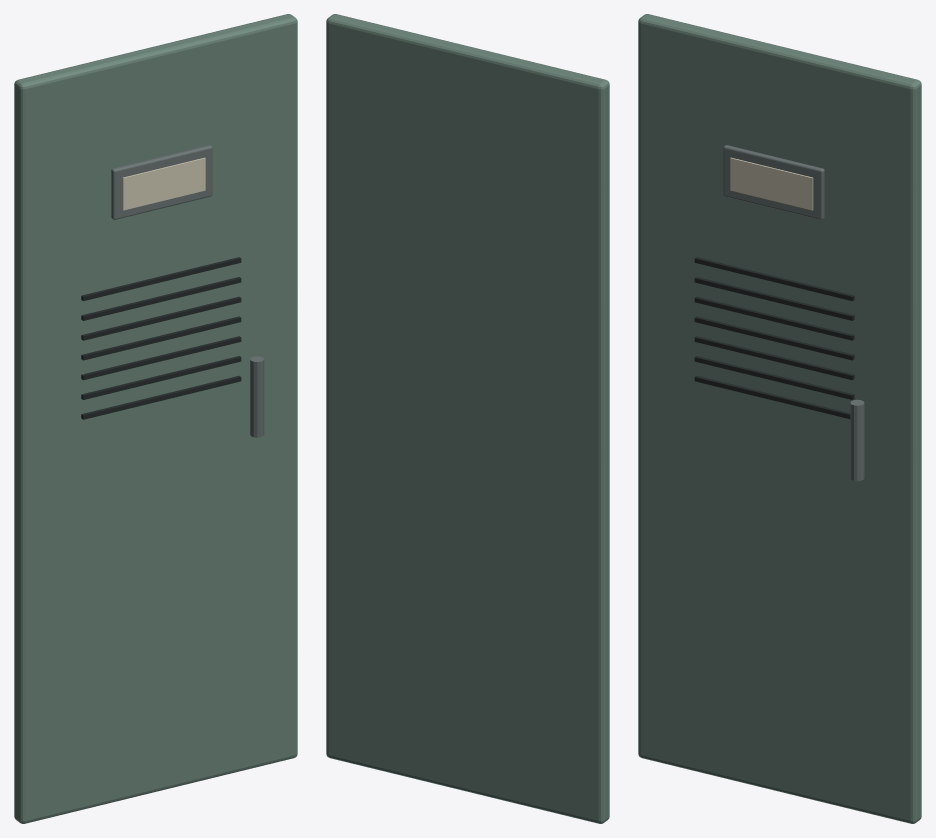
Rendered from locker_door.glb.
The picture shows the model from 3 angles, left to right: view 1: azimuth 30°, elevation 25°; view 2: azimuth 150°, elevation 25°; view 3: azimuth 330°, elevation 25°; orthographic projection.
Parts seen in each view (by area): view 1: locker_door; view 2: locker_door; view 3: locker_door.
Boxes of the visible parts, x1,y1,x2,y2 form: locker_door: (14, 14, 297, 823); locker_door: (326, 14, 609, 823); locker_door: (638, 14, 921, 823).
Bounding box in the file's own units: 0.81 × 2.06 × 0.1005.
